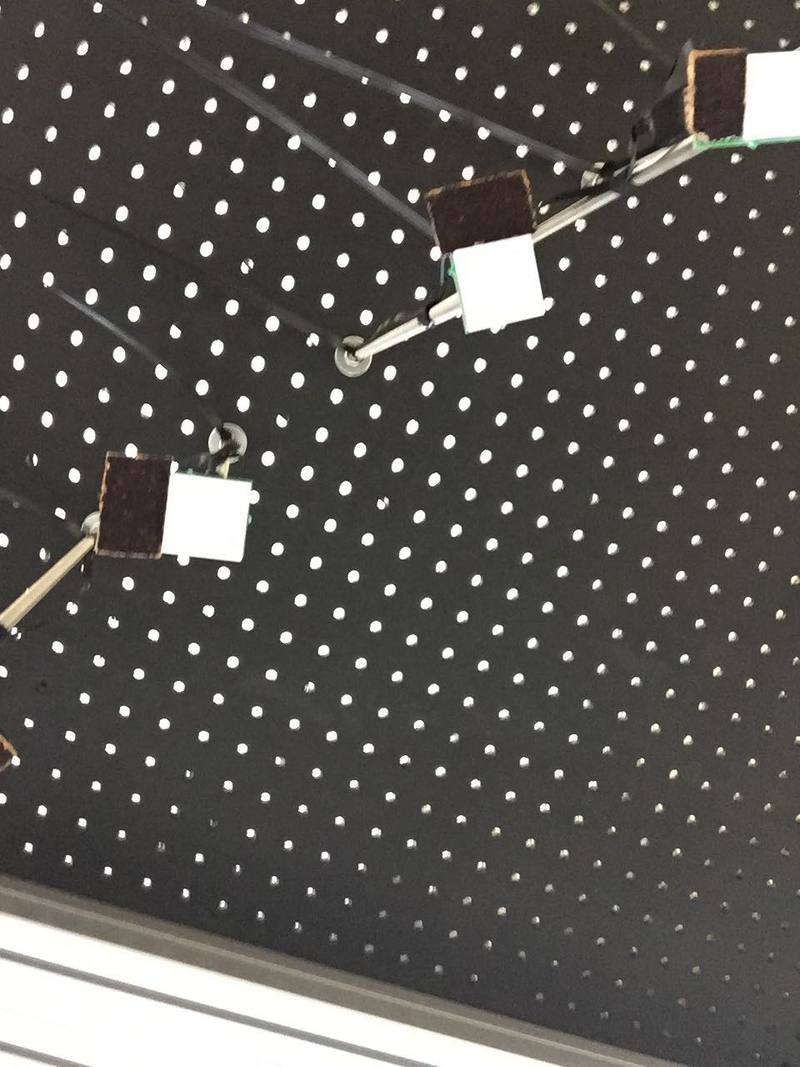target: (449, 234, 551, 338), (161, 468, 267, 568), (742, 49, 800, 145)
